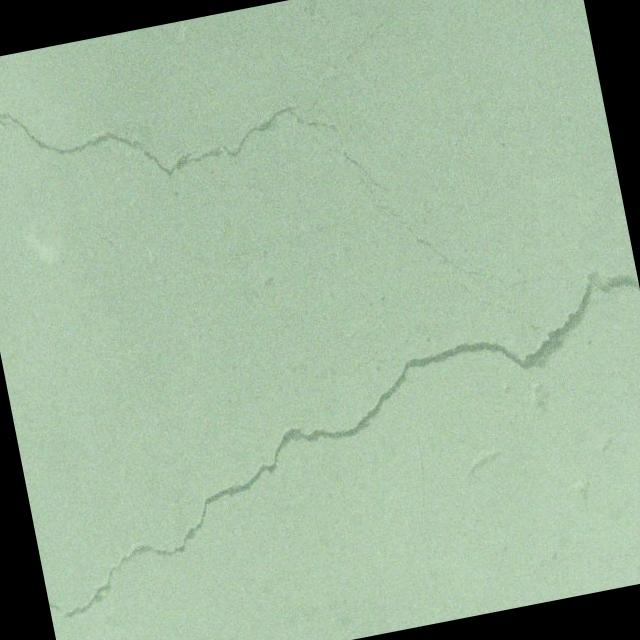crack: (4, 251, 640, 622), (204, 0, 527, 338), (0, 70, 225, 217)
